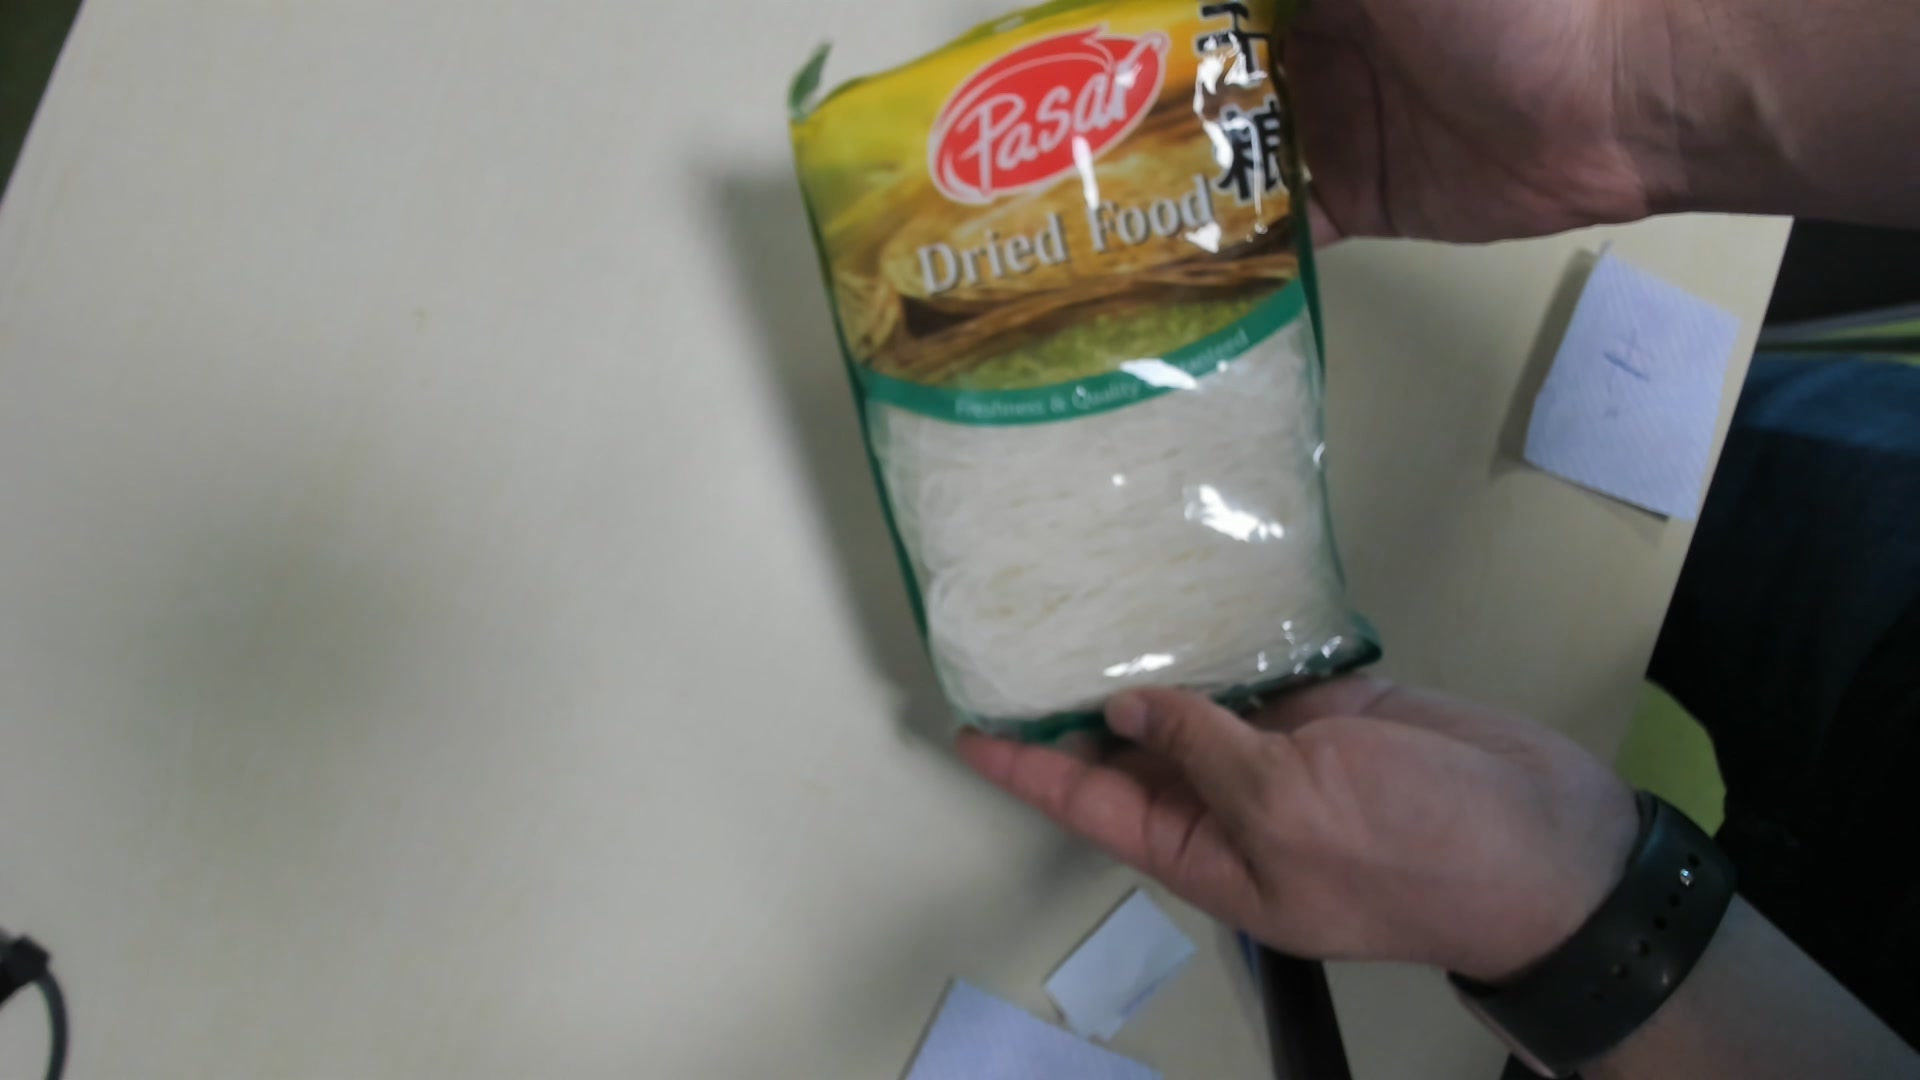BeeHoonVermicelli_100-199g_NonHalal_NonHealthy: (804, 1, 1371, 727)
